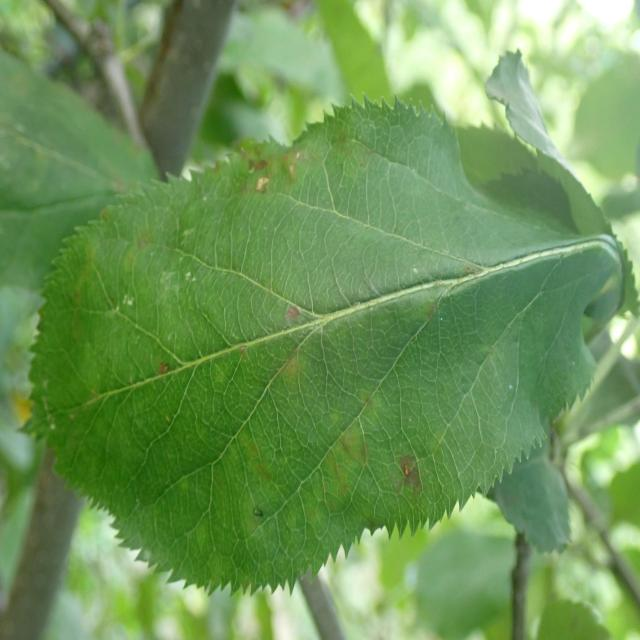scab: (102, 126, 545, 540)
